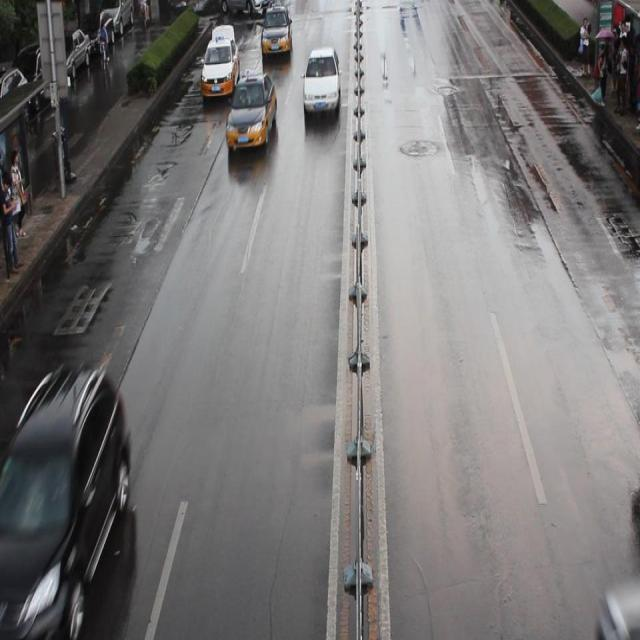car: (1, 360, 130, 628), (225, 72, 276, 150), (606, 491, 640, 578), (302, 47, 341, 113), (200, 38, 240, 98), (260, 1, 292, 56), (213, 1, 266, 14)
